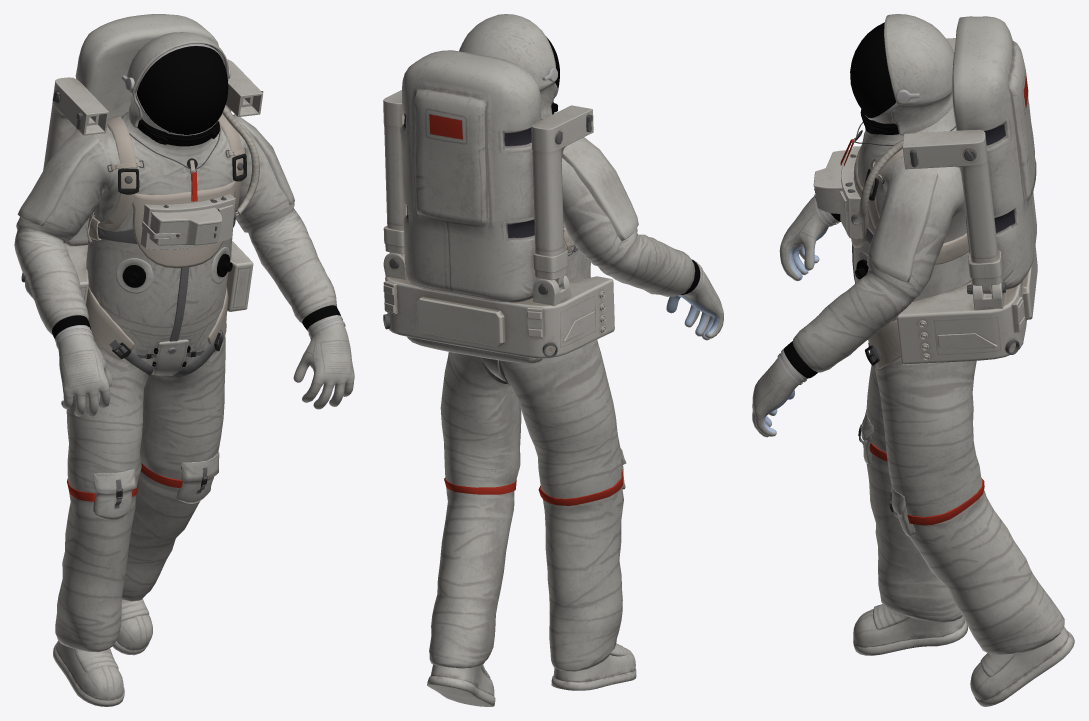
File: astronaut.glb
The picture shows the model from 3 angles, left to right: view 1: azimuth 30°, elevation 25°; view 2: azimuth 150°, elevation 25°; view 3: azimuth 270°, elevation 25°; orthographic projection. The views are drawn at different scales.
Parts seen in each view (by area): view 1: Object_106, Object_99, Object_100; view 2: Object_106, Object_99; view 3: Object_106, Object_99, Object_100.
Boxes of the visible parts, box(x1,y1,x2,y2) form: Object_106: box(14, 32, 354, 706); Object_99: box(21, 14, 263, 375); Object_100: box(76, 112, 246, 508); Object_106: box(427, 14, 723, 706); Object_99: box(383, 50, 614, 381); Object_106: box(752, 14, 1074, 706); Object_99: box(813, 16, 1037, 365); Object_100: box(814, 148, 968, 519).
Size of the model in its own units: 1.44 by 3.19 by 1.36.
Materials: 3 (2 with a texture image).
